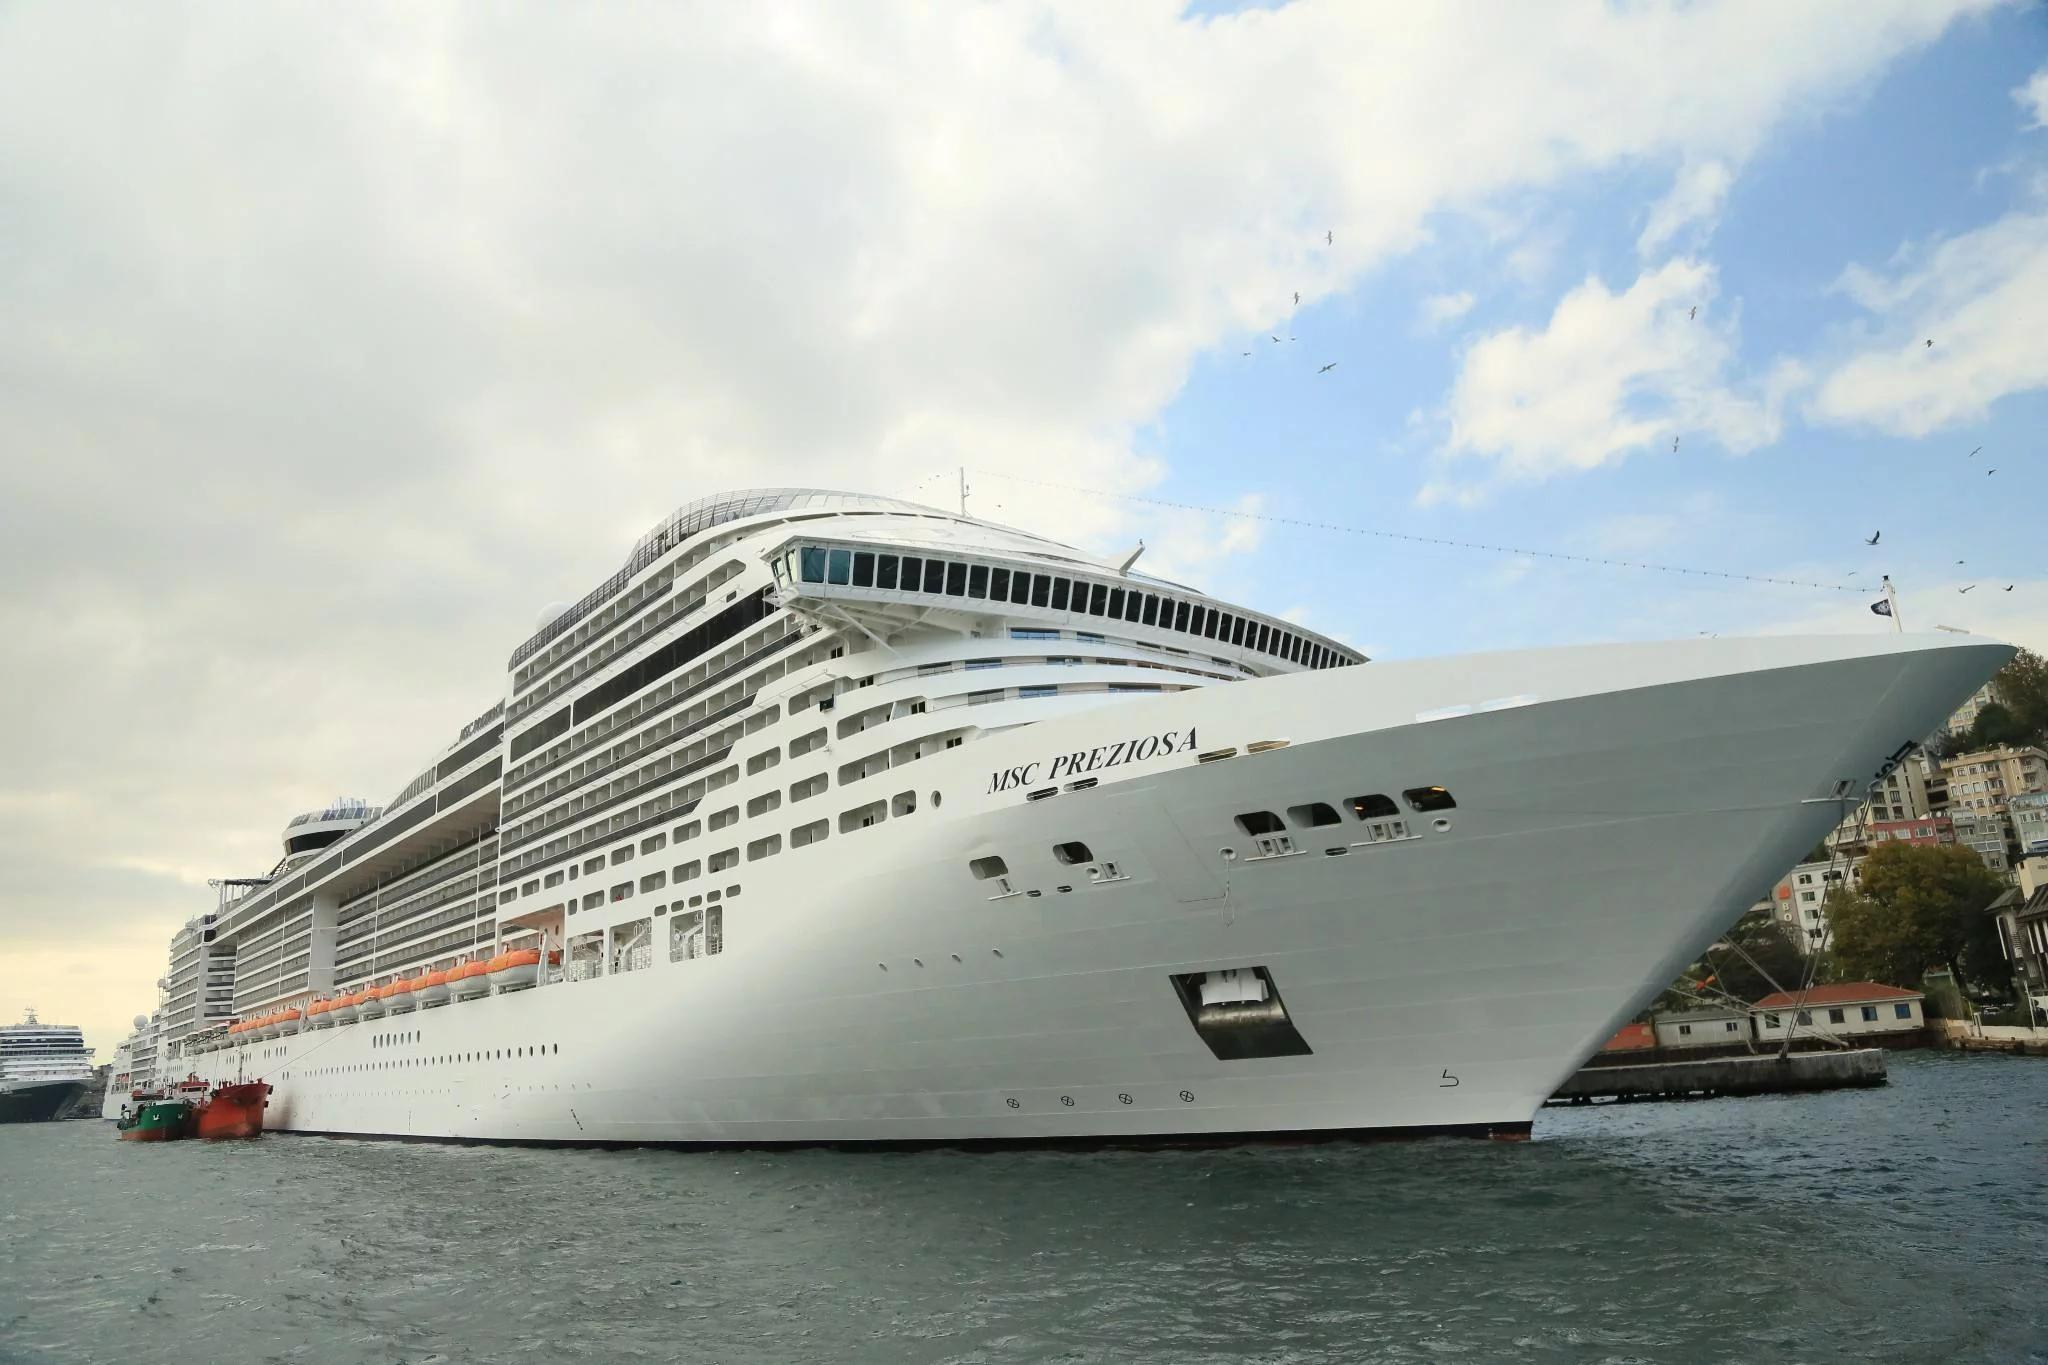otherboat: (193, 1063, 277, 1152), (117, 1083, 203, 1146)
youlun: (120, 477, 2027, 1136)
